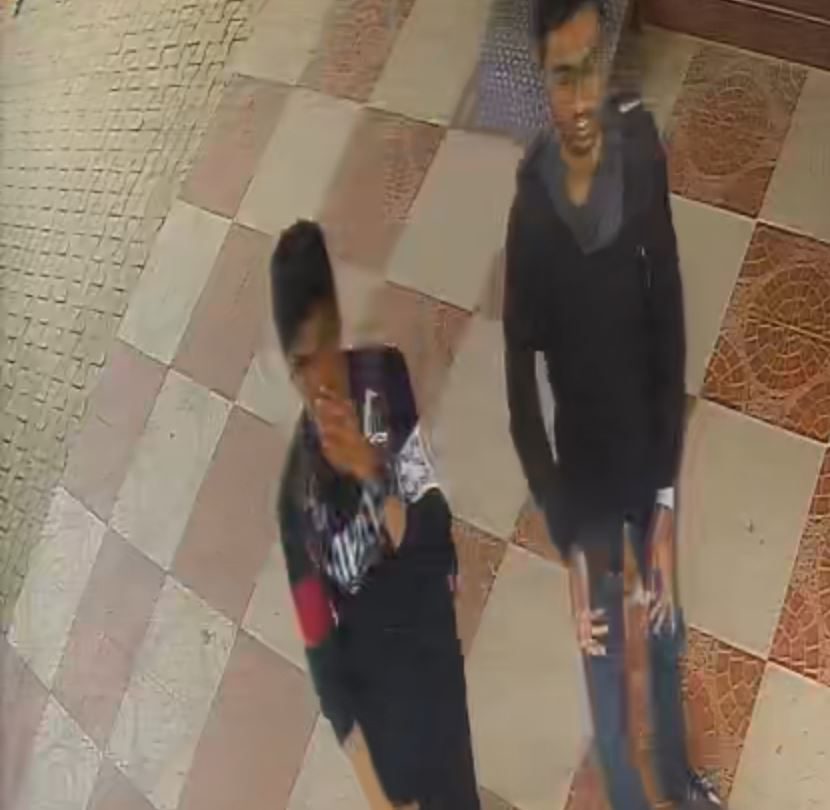intruder: (484, 1, 712, 810), (267, 221, 487, 810)
